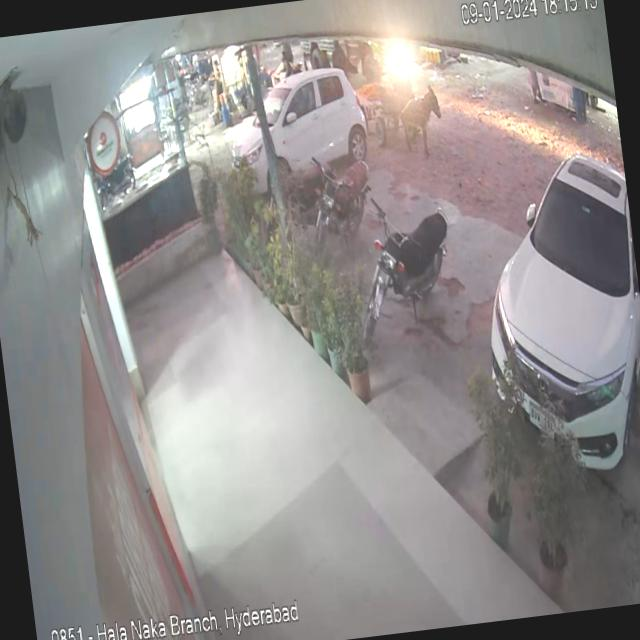Car: (458, 103, 640, 494), (200, 51, 376, 188)
Motorcycle: (344, 176, 471, 348), (308, 148, 382, 245)
